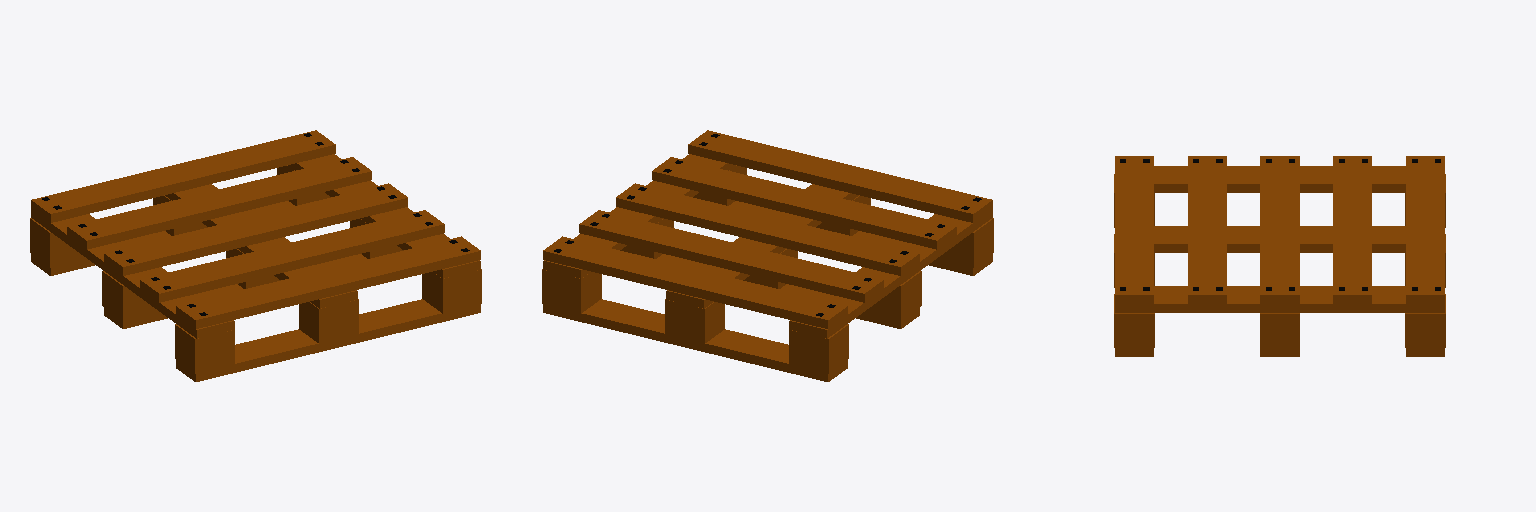
Rendered from Palette.001.obj.
3 renders of one model, left to right at view 1: azimuth 30°, elevation 25°; view 2: azimuth 150°, elevation 25°; view 3: azimuth 270°, elevation 25°, orthographic.
Parts seen in each view (by area): view 1: Palette.001_Cube.014; view 2: Palette.001_Cube.014; view 3: Palette.001_Cube.014.
Part boxes in pixels (bbox=[...]): Palette.001_Cube.014: bbox=[30, 130, 481, 381]; Palette.001_Cube.014: bbox=[542, 130, 993, 381]; Palette.001_Cube.014: bbox=[1114, 156, 1445, 356].
Bounding box in the file's own units: 1 × 0.2094 × 1.